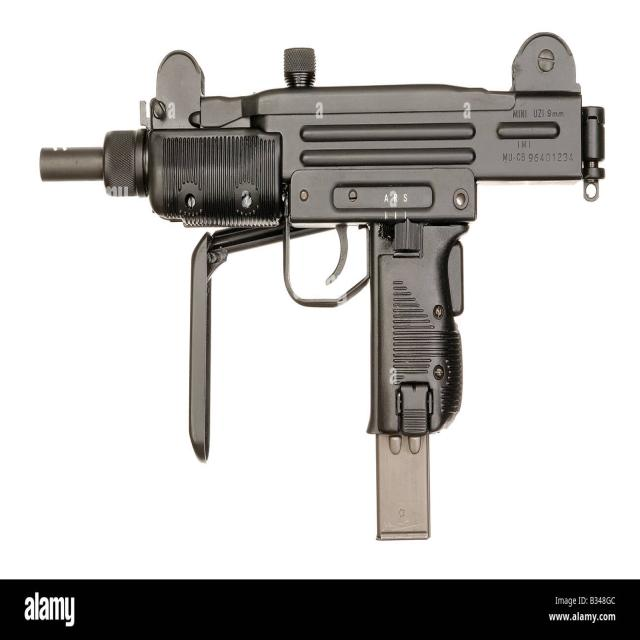SMG: (39, 33, 606, 545)
